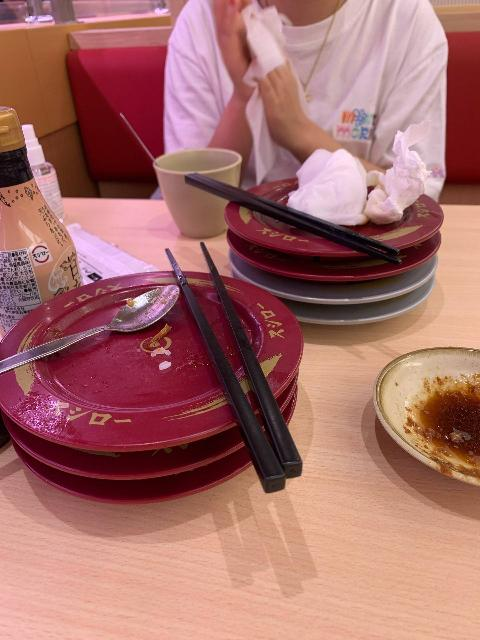janred: (0, 307, 291, 434), (203, 196, 473, 260), (19, 472, 274, 519), (0, 435, 259, 478), (233, 252, 439, 287)
janwhite: (253, 289, 449, 313), (278, 318, 442, 331)
